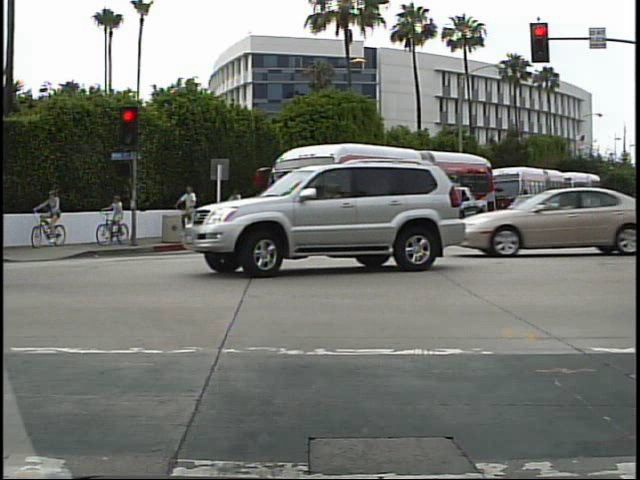person: (102, 194, 128, 249)
